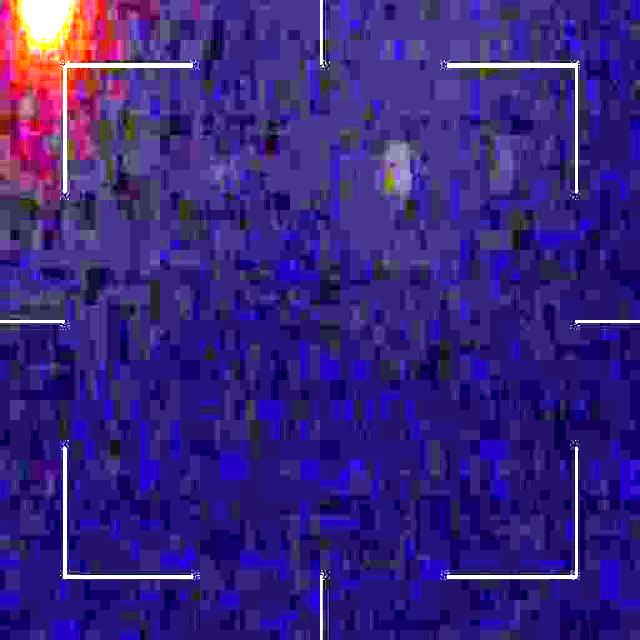bird: (24, 0, 70, 39)
